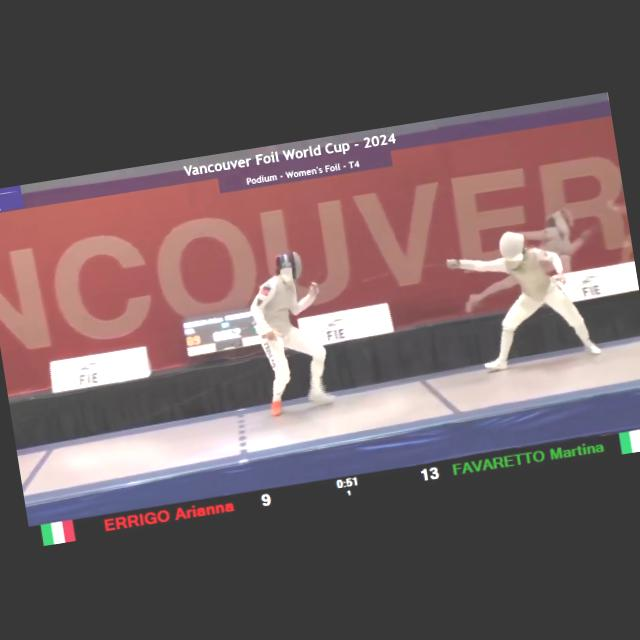blade: (361, 255, 454, 286)
